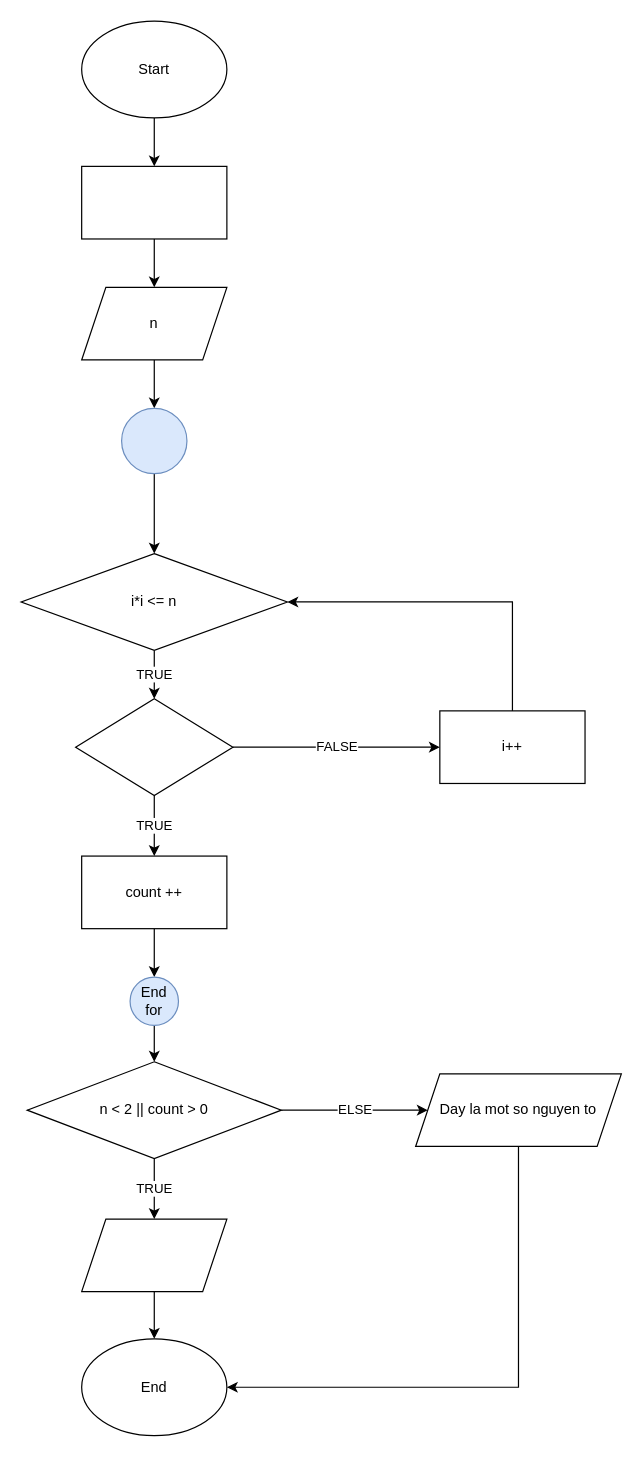
The diagram is 643 pixels wide and 1457 high, and some of its shapes have lost their labels. Here are the shapes that lost their labels. From the top down, the centre of each, then its label:
At (x=153, y=202): "n,count=0,i=2".
At (x=153, y=440): "Start for".
At (x=153, y=747): "n % i == 0".
At (x=153, y=1255): "Khong phai so nguyen to".
